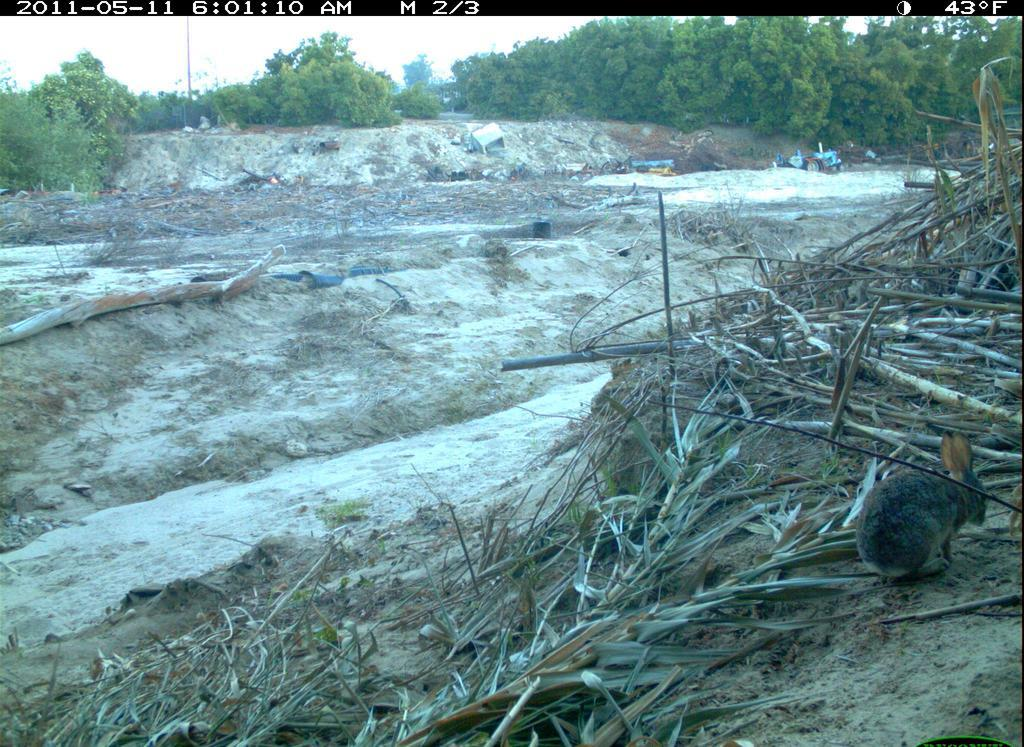rabbit: (845, 427, 994, 589)
